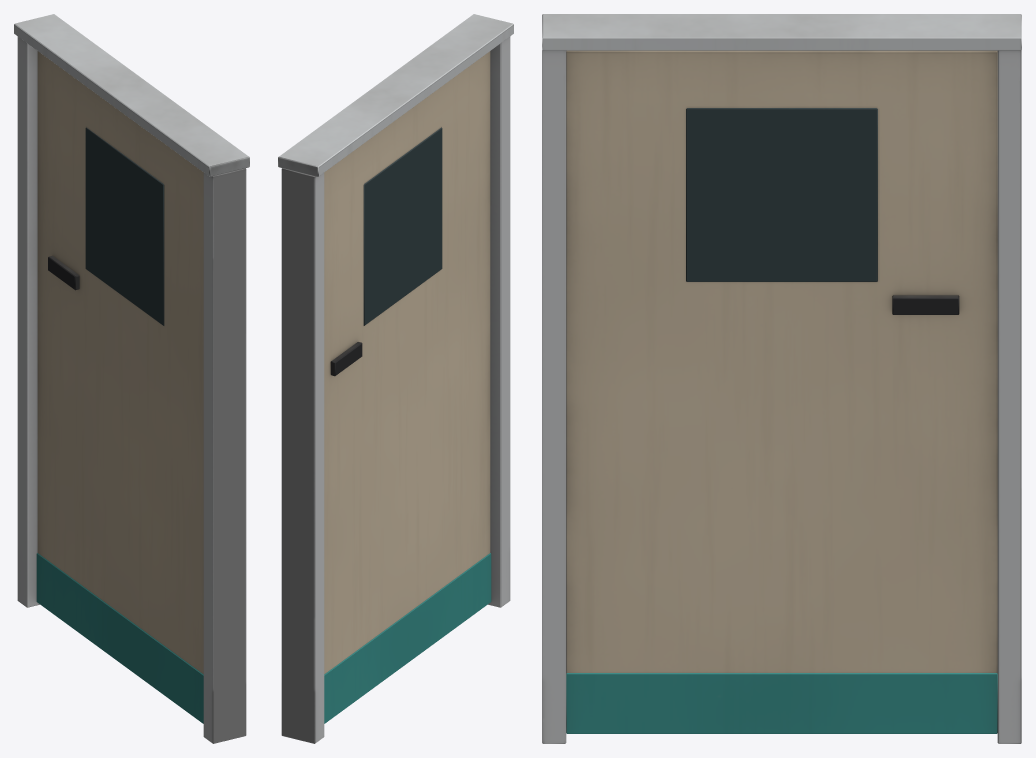
The model's file is HWall_Door.fbx.
3 renders of one model, left to right at view 1: azimuth 30°, elevation 25°; view 2: azimuth 150°, elevation 25°; view 3: azimuth 270°, elevation 25°, orthographic. The views are drawn at different scales.
Visible parts, largest first — view 1: Door_LOD0, HWall_Door_LOD0; view 2: Door_LOD0, HWall_Door_LOD0; view 3: Door_LOD0, HWall_Door_LOD0.
Part boxes in pixels (x1,y1,x2,y2): Door_LOD0: (36,51,203,723); HWall_Door_LOD0: (14,14,249,743); Door_LOD0: (324,51,491,723); HWall_Door_LOD0: (278,14,513,743); Door_LOD0: (566,50,997,733); HWall_Door_LOD0: (542,14,1021,743).
Size of what is drawn, in the model's own units: 0.12 by 1.63 by 1.
1 material, 1 textured.
